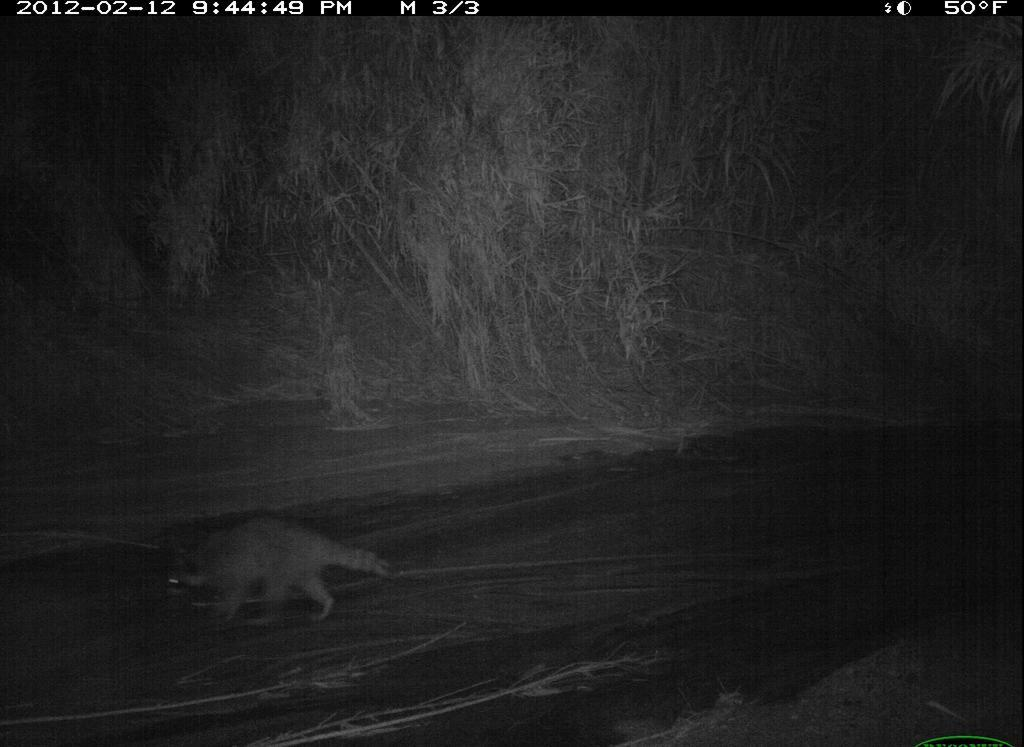raccoon: (148, 514, 411, 633)
